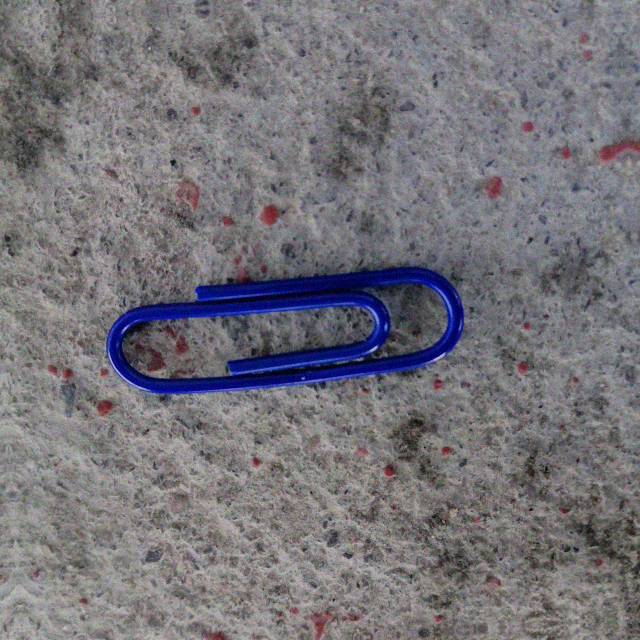pin: (109, 270, 461, 397)
